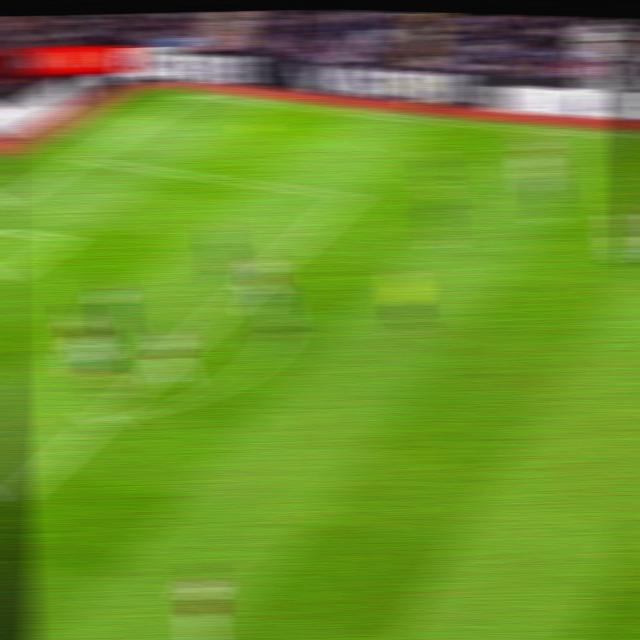bigarea_top_inner: (332, 182, 366, 211)
bigarea_top_outter: (66, 148, 96, 167)
bottom_arc_area_intersection: (86, 406, 120, 433)
corner: (176, 87, 207, 102)
smallarea_top_inner: (49, 228, 79, 250)
